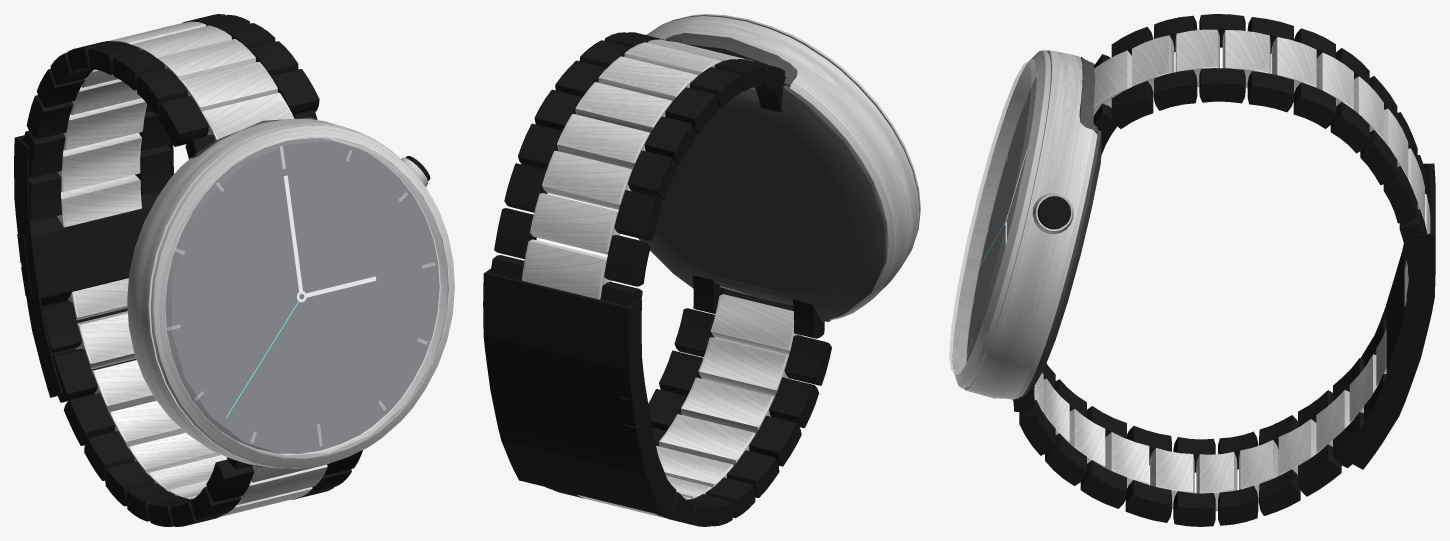
Rendered from watch.glb.
3 views of the same model, side by side, from view 1: azimuth 30°, elevation 25°; view 2: azimuth 150°, elevation 25°; view 3: azimuth 270°, elevation 25° (orthographic).
Parts seen in each view (by area): view 1: watchGlass, WatchshellTop, FinalStrap1, FinalStrap2, watchShell, strapClip, hrHand1; view 2: FinalStrap1, watchBottom, strapClip, FinalStrap2, watchShell; view 3: FinalStrap2, FinalStrap1, watchShell, watchGlass, strapClip, WatchshellTop, watchBottom.
Boxes of the visible parts, x1=… form: watchGlass: x1=165, y1=136, x2=448, y2=459; WatchshellTop: x1=165, y1=138, x2=439, y2=453; FinalStrap1: x1=23, y1=14, x2=319, y2=227; FinalStrap2: x1=42, y1=278, x2=362, y2=526; watchShell: x1=127, y1=118, x2=454, y2=468; strapClip: x1=14, y1=135, x2=173, y2=397; hrHand1: x1=284, y1=175, x2=302, y2=291; FinalStrap1: x1=491, y1=32, x2=785, y2=306; watchBottom: x1=638, y1=33, x2=886, y2=322; strapClip: x1=483, y1=268, x2=675, y2=515; FinalStrap2: x1=545, y1=276, x2=831, y2=526; watchShell: x1=646, y1=14, x2=920, y2=319; FinalStrap2: x1=1012, y1=319, x2=1386, y2=526; FinalStrap1: x1=1093, y1=14, x2=1430, y2=306; watchShell: x1=952, y1=50, x2=1097, y2=399; watchGlass: x1=949, y1=60, x2=1037, y2=374; strapClip: x1=1340, y1=163, x2=1435, y2=469; WatchshellTop: x1=967, y1=76, x2=1036, y2=360; watchBottom: x1=994, y1=57, x2=1101, y2=399.
Bounding box in the file's own units: 10.65 × 14.89 × 14.75.
Materials: 8 (1 with a texture image).
